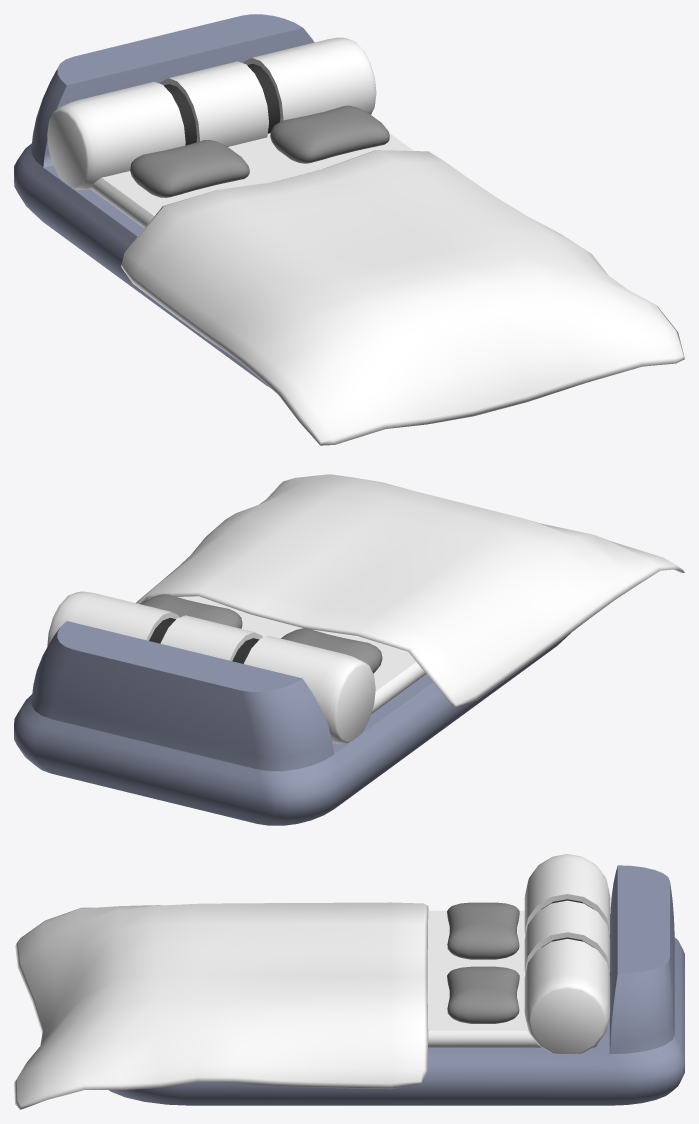
The model's file is bed.glb.
3 views of the same model, one above another, from view 1: azimuth 30°, elevation 25°; view 2: azimuth 150°, elevation 25°; view 3: azimuth 270°, elevation 25° (orthographic). The views are drawn at different scales.
Visible parts, largest first — view 1: quilt, bad.001, bad, mattress, pillow.001, pillow; view 2: quilt, bad, bad.001, mattress, pillow, pillow.001; view 3: quilt, bad, bad.001, mattress, pillow, pillow.001.
Part boxes in pixels (x1,y1,x2,y2): quilt: (121,150,684,445); bad.001: (47,37,376,189); bad: (14,14,314,387); mattress: (90,133,413,228); pillow.001: (270,105,389,163); pillow: (130,140,249,197); quilt: (136,474,684,707); bad: (14,621,570,825); bad.001: (47,591,375,743); mattress: (177,596,425,713); pillow: (281,628,382,673); pillow.001: (141,594,242,628); quilt: (14,902,428,1109); bad: (109,865,684,1105); bad.001: (524,854,610,1053); mattress: (427,910,597,1047); pillow: (447,902,519,959); pillow.001: (447,966,519,1023).
Bounding box in the file's own units: 6.86 × 2.31 × 11.14.
